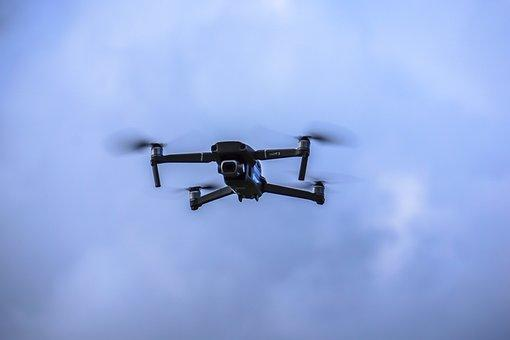drone_other: (107, 121, 356, 213)
